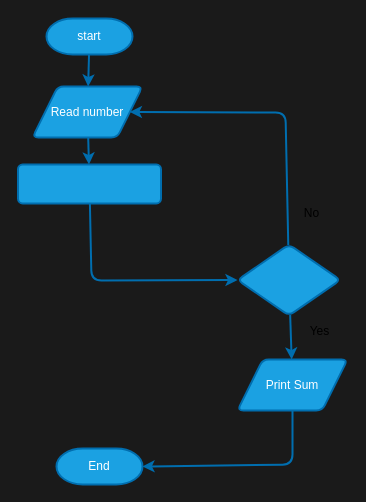
This 366x502 diagram has some shape labels left out. Each missing label, with the box of its shape:
number = -99: (236, 243, 341, 316)
sum = 0 sum = sum + number: (16, 163, 162, 204)
